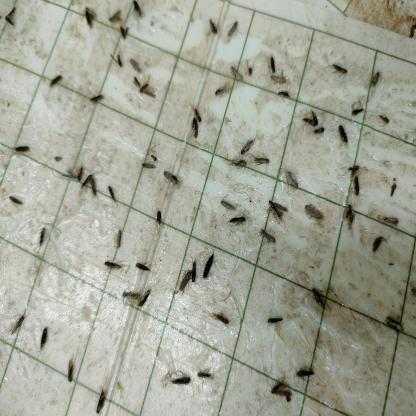prays_oleae: (303, 192, 326, 233), (378, 204, 406, 234), (165, 366, 194, 394), (294, 360, 322, 388), (200, 240, 218, 283), (60, 359, 84, 391), (326, 56, 354, 82), (90, 390, 118, 414), (129, 78, 157, 101), (210, 306, 236, 330), (307, 286, 332, 310), (266, 378, 293, 400), (259, 221, 277, 254), (339, 200, 360, 228), (186, 250, 202, 286), (284, 161, 300, 197), (171, 263, 190, 293), (108, 50, 127, 79), (13, 140, 38, 162), (268, 197, 285, 229), (62, 165, 86, 187), (33, 324, 53, 350), (106, 185, 125, 212), (48, 69, 68, 94), (83, 90, 110, 108), (121, 286, 143, 308), (196, 366, 218, 388), (138, 253, 154, 283), (37, 226, 52, 258), (372, 228, 390, 254), (103, 255, 123, 278), (9, 316, 29, 339), (266, 70, 292, 87), (153, 207, 169, 232), (300, 110, 321, 129), (254, 152, 276, 170), (140, 156, 156, 180), (210, 81, 232, 98), (162, 168, 182, 186), (229, 66, 247, 86), (353, 100, 368, 124), (334, 123, 349, 146), (110, 224, 127, 244), (372, 68, 385, 94), (79, 7, 100, 23), (6, 194, 28, 209), (226, 21, 240, 44), (376, 109, 392, 129), (220, 193, 236, 212), (229, 215, 248, 231), (268, 314, 284, 332), (106, 11, 126, 25), (188, 124, 204, 141), (227, 156, 247, 169), (239, 140, 254, 156), (193, 108, 207, 125), (206, 18, 220, 35), (90, 172, 98, 200), (120, 20, 130, 42), (82, 171, 92, 188)
